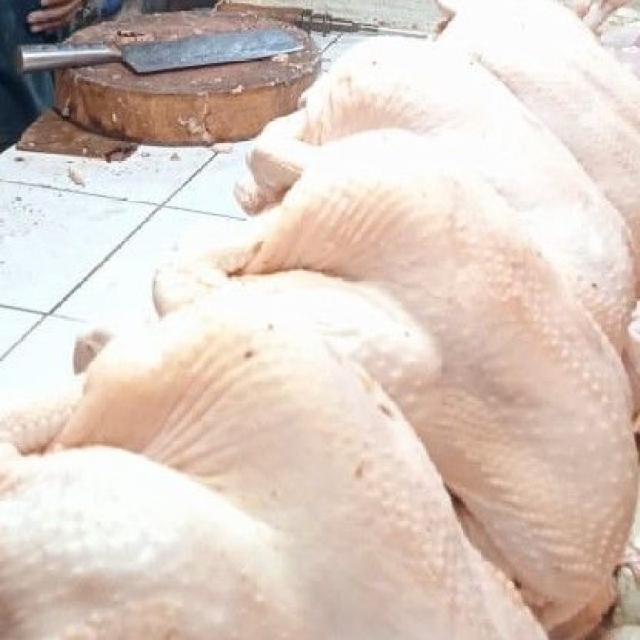Chicken: (216, 110, 640, 640), (16, 263, 561, 640)
